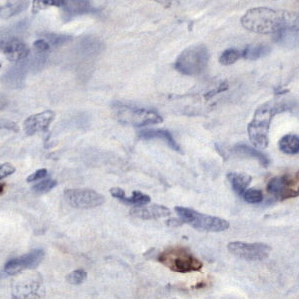Lymphocyte: (158, 246, 203, 274)
